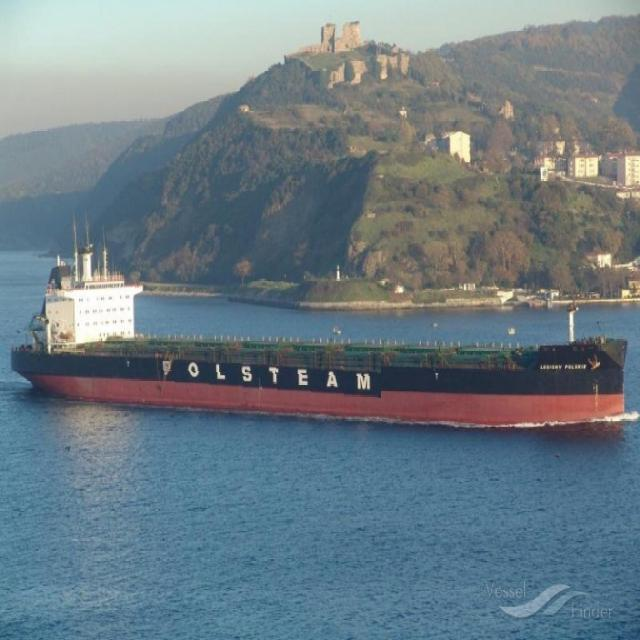OCR: (157, 356, 381, 401)
